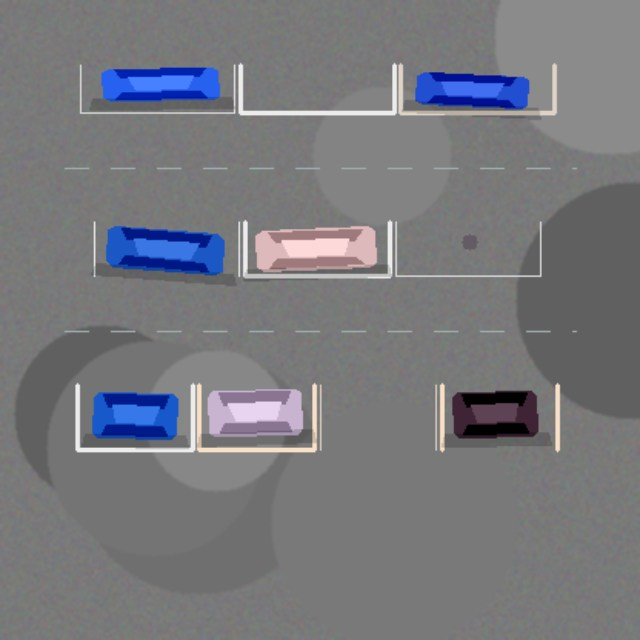space-empty: (395, 222, 540, 275), (320, 385, 435, 449), (240, 65, 394, 112)
space-occupied: (94, 222, 238, 275), (245, 222, 389, 275), (198, 385, 314, 449), (77, 385, 192, 449), (442, 385, 557, 449), (80, 65, 234, 112), (400, 65, 554, 112)
